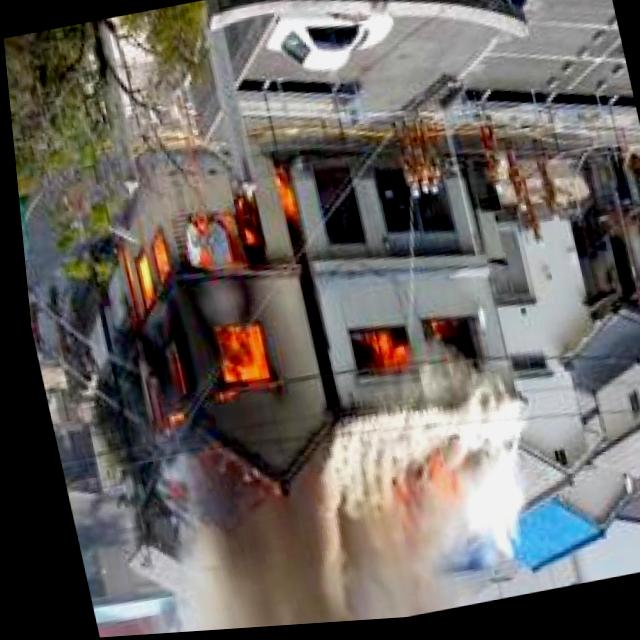Fire: (77, 166, 341, 465), (328, 309, 486, 399)
Smoke: (142, 384, 543, 634)
